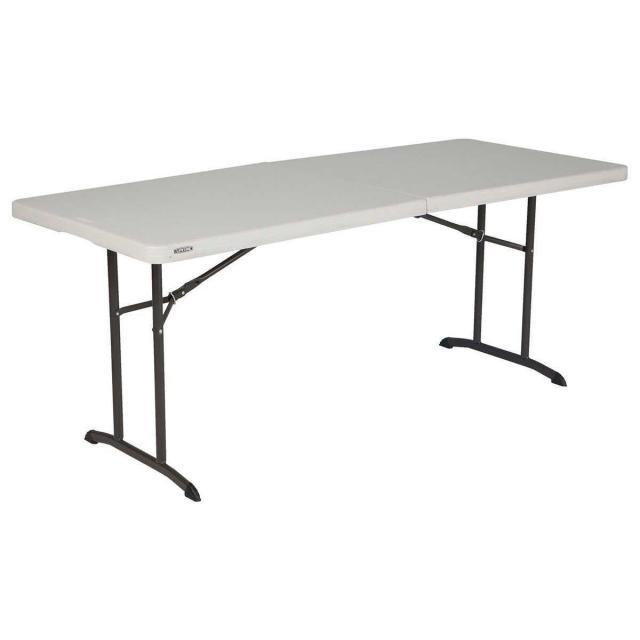mobile-phone: (10, 136, 638, 503)
